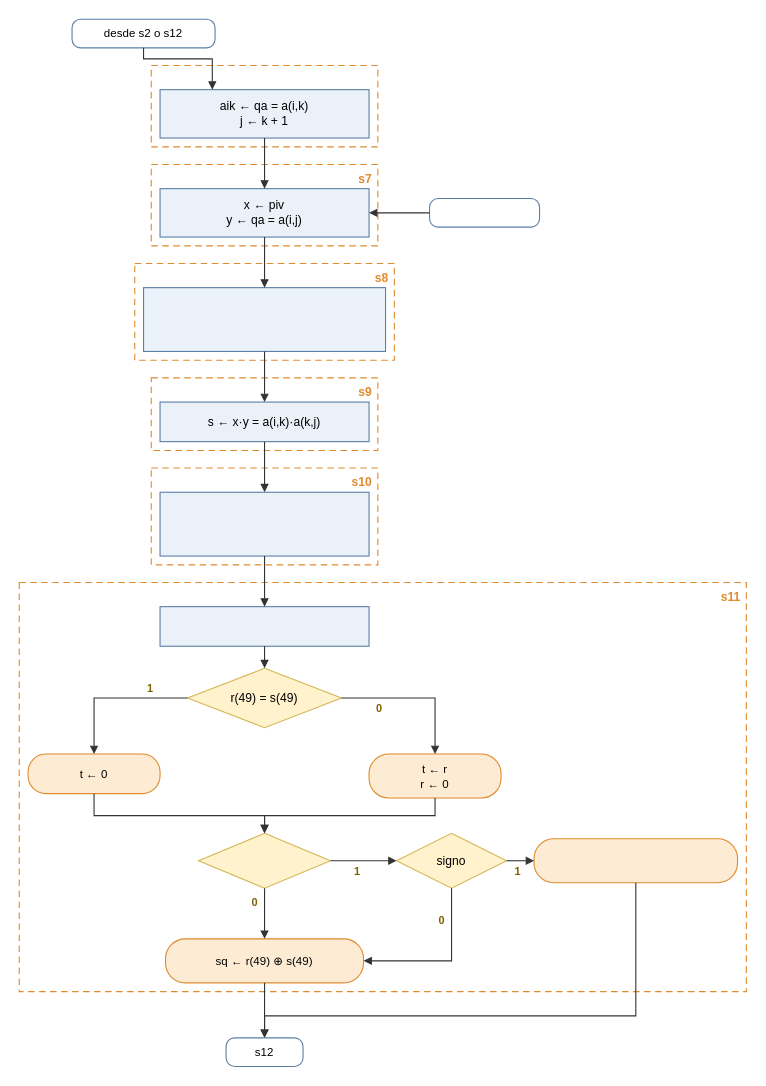
This 766x1086 diagram has some shape labels left out. The shapes that lost their labels are listed below. From the top down, each one's box as (x1, y1, x2, y2) in pixels, then its label:
(150, 64, 378, 147): s6
(428, 197, 540, 227): desde s12
(142, 287, 386, 351): r ← x·y = piv·a(i,j) x ← aik y ← qb = a(k,j)
(159, 491, 369, 556): r ← r − s s ← p (extensión de signo) cociente ← 0
(159, 606, 369, 646): prepara la división r / s
(197, 832, 331, 888): k + 1 = n
(533, 838, 738, 883): sq ← not (r(49) ⊕ s(49))
